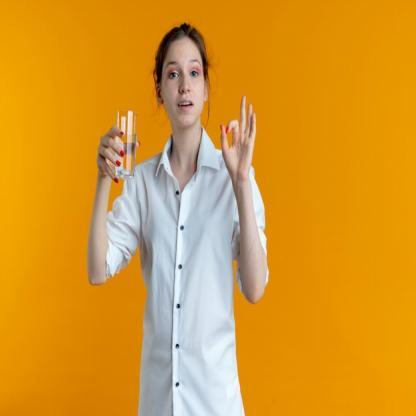ok: (217, 92, 259, 186)
